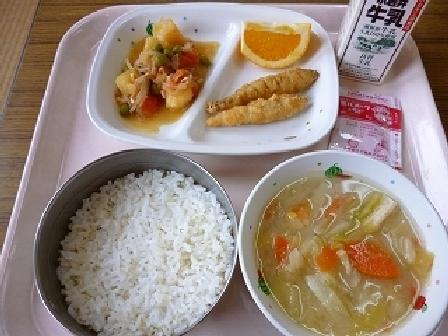Fish: (208, 68, 319, 133)
Milk: (327, 0, 432, 83)
Rice: (22, 149, 234, 335)
Soups: (237, 150, 444, 335)
orange: (232, 15, 315, 69)
vegetable based cooked food: (107, 19, 206, 122)
